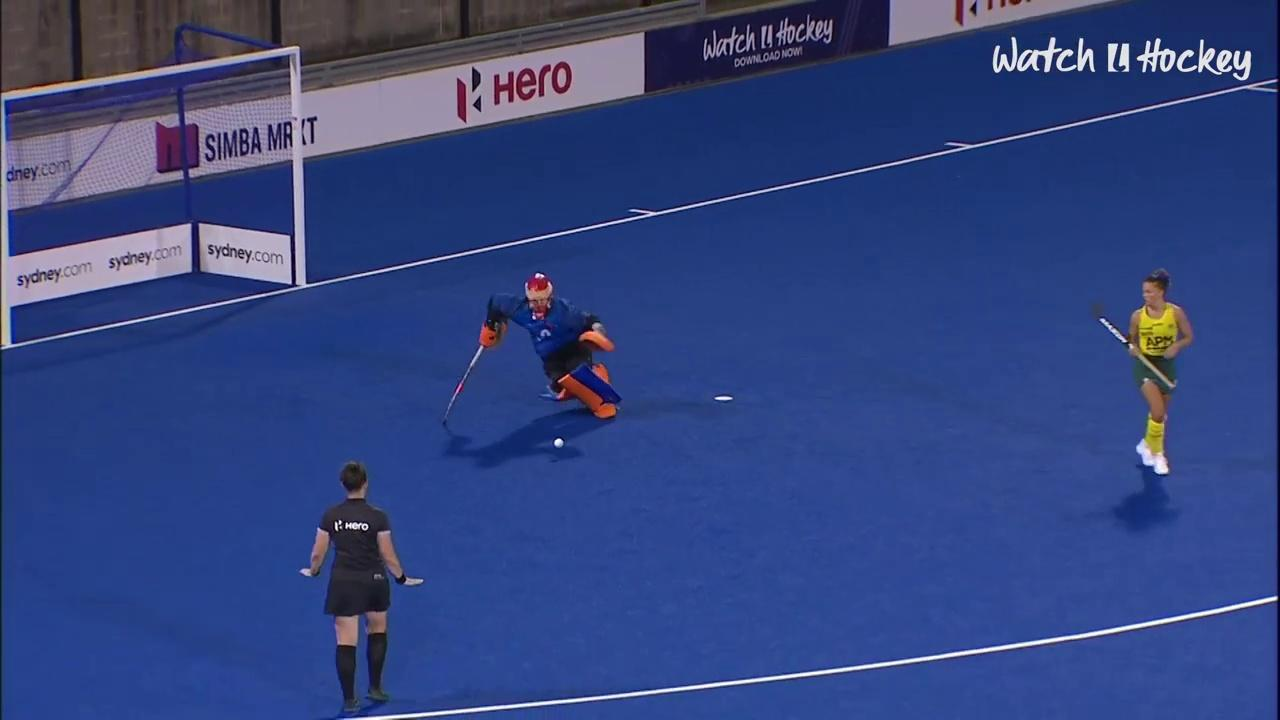ball: (550, 436, 566, 458)
